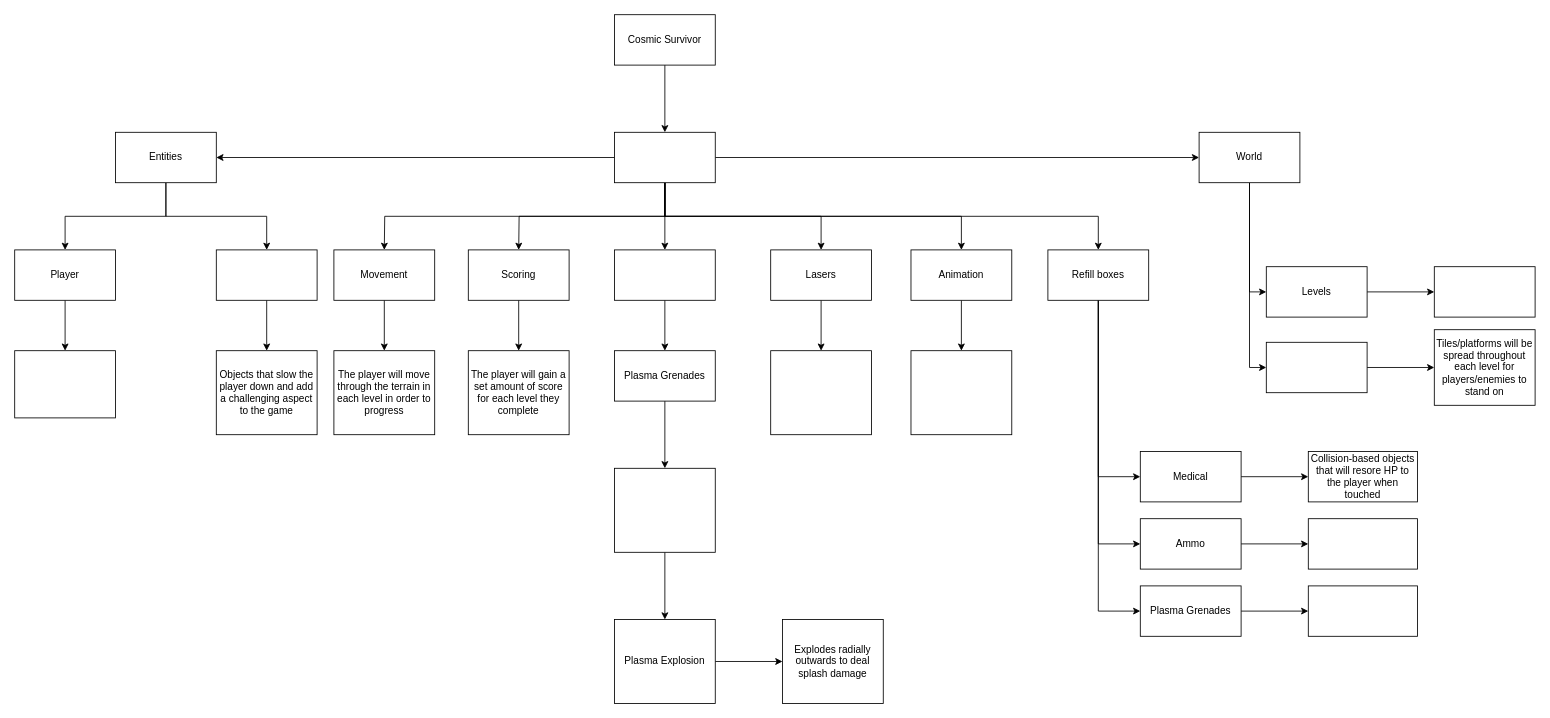
Image size: 1550x718. Some labels were removed from this diagram. Each missing label, with the centre of its shape:
"Can be thrown by the player or enemies to deal splash damage over an area" goes at (x=664, y=509).
"Collision-based objects that restore ammo when touched" goes at (x=1362, y=543).
"Collision-based objects that restore plasma grenades when touched" goes at (x=1362, y=610).
"Custom levels can be created and saved from the level editor tool" goes at (x=1484, y=291).
"Enemies" goes at (x=266, y=274).
"Mechanics" goes at (x=664, y=157).
"Shot by the player and enemies to deal small damage" goes at (x=821, y=392).
"The player is a sprite controlled by the user" goes at (x=65, y=384).
"This utilises data structures to animate parts of the game" goes at (x=961, y=392).
"Tiles" goes at (x=1316, y=367).
"Weapons" goes at (x=664, y=274).
